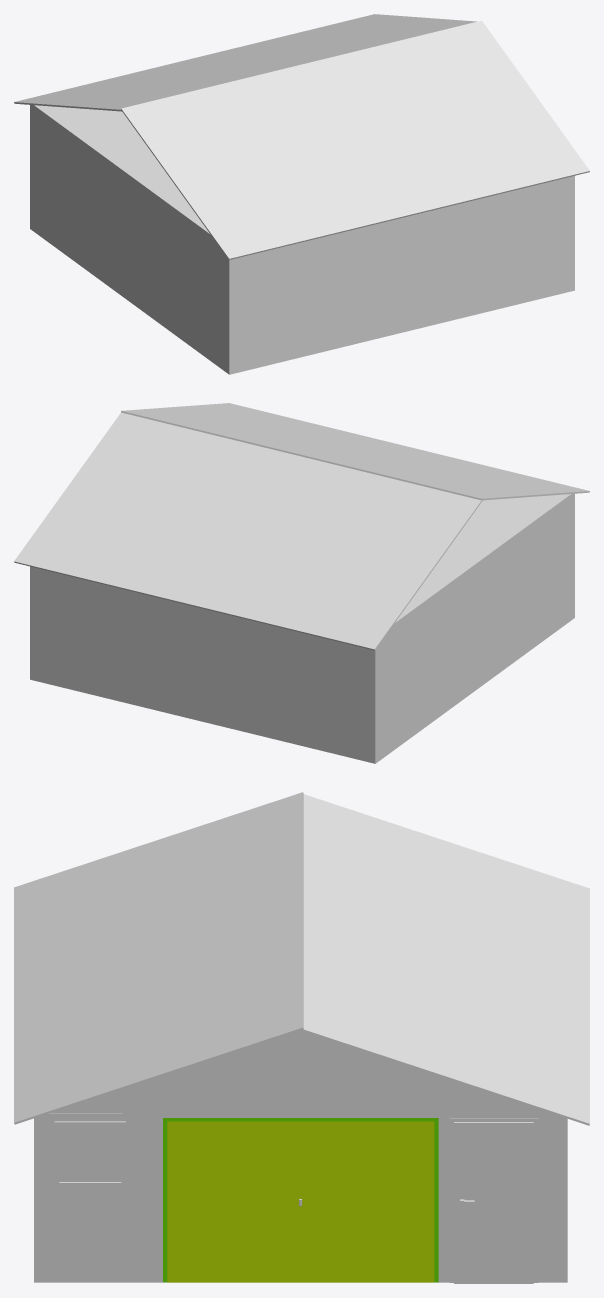
Rendered from garaz.glb.
3 renders of one model, top to bottom at view 1: azimuth 30°, elevation 25°; view 2: azimuth 150°, elevation 25°; view 3: azimuth 270°, elevation 25°, orthographic. The views are drawn at different scales.
Parts seen in each view (by area): view 1: Cube, lewydach, prawydach; view 2: Cube, prawydach, lewydach; view 3: lewydach, prawydach, brama, Cube, Plane.005, drzwi, okno, obramowka-drzwi.001, drzwi-obramowka.
Boxes of the visible parts, <box> form: Cube: <box>30,105,574,374</box>; lewydach: <box>121,20,589,259</box>; prawydach: <box>14,14,476,111</box>; Cube: <box>30,493,574,763</box>; prawydach: <box>14,412,482,650</box>; lewydach: <box>121,403,589,500</box>; lewydach: <box>14,792,303,1124</box>; prawydach: <box>301,794,589,1125</box>; brama: <box>167,1121,434,1282</box>; Cube: <box>34,1113,567,1282</box>; Plane.005: <box>50,1030,551,1113</box>; drzwi: <box>450,1118,538,1283</box>; okno: <box>54,1121,125,1186</box>; obramowka-drzwi.001: <box>163,1118,438,1282</box>; drzwi-obramowka: <box>449,1118,538,1282</box>.
Size of the model in its own units: 6.26 by 3.23 by 6.48.
